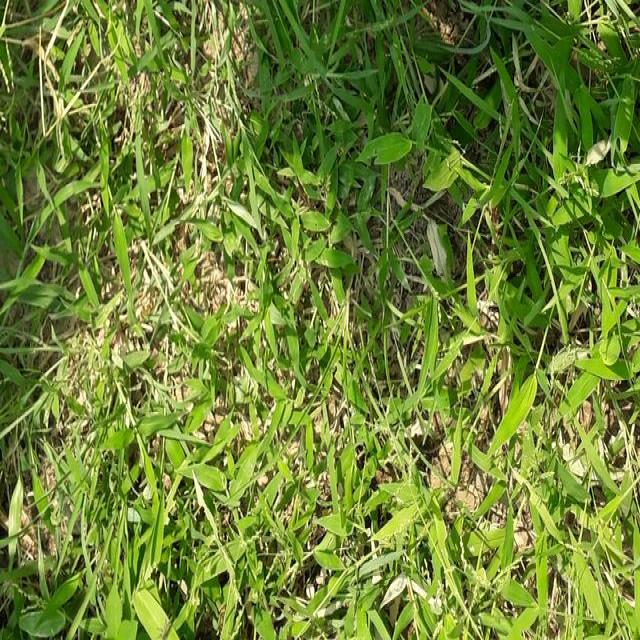weed: (9, 394, 640, 638), (229, 8, 640, 332), (0, 0, 181, 279)
